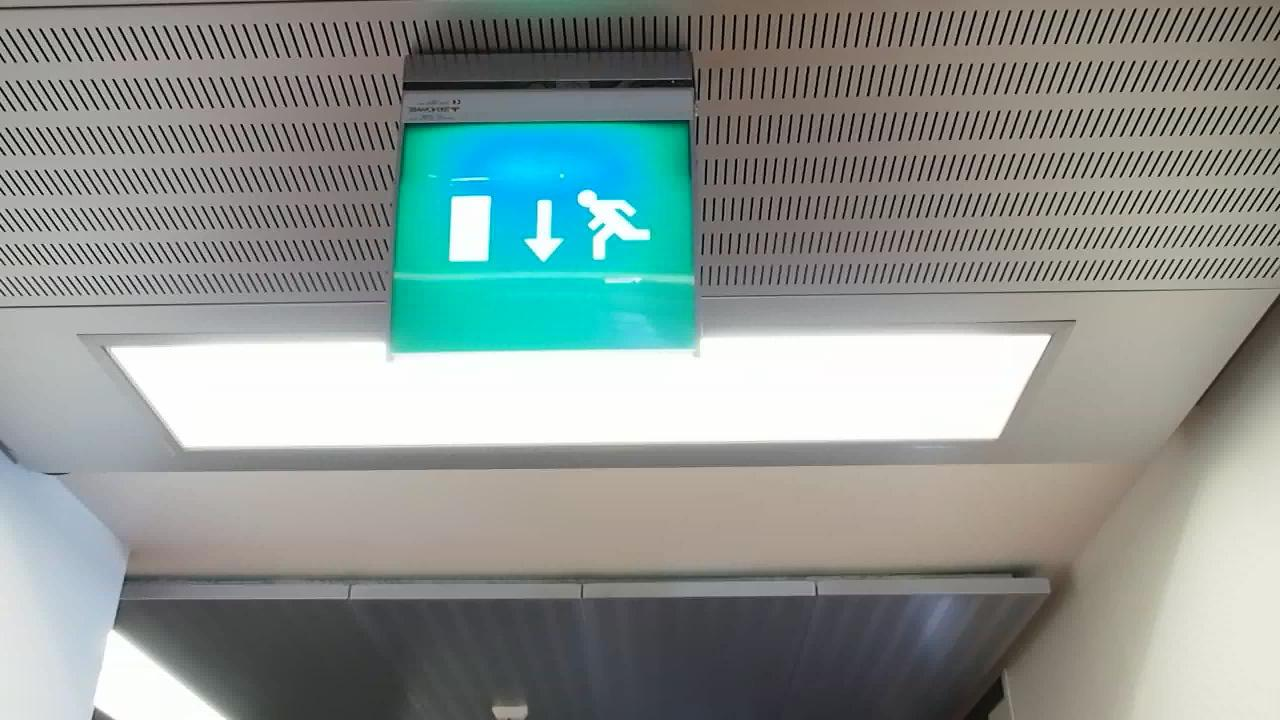exit: (387, 109, 706, 358)
